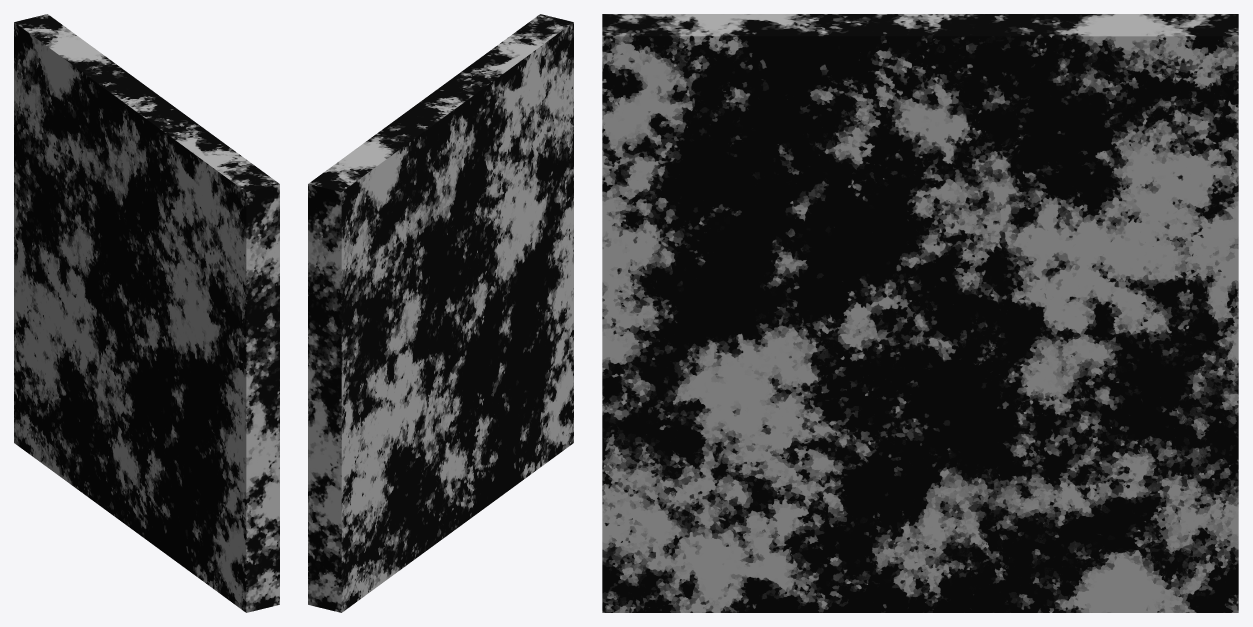
File: SM_Wall_Bricks.fbx
3 views of the same model, side by side, from view 1: azimuth 30°, elevation 25°; view 2: azimuth 150°, elevation 25°; view 3: azimuth 270°, elevation 25° (orthographic). The views are drawn at different scales.
Parts seen in each view (by area): view 1: SM_Wall_Bricks_LOD0; view 2: SM_Wall_Bricks_LOD0; view 3: SM_Wall_Bricks_LOD0.
Boxes of the visible parts, <box> form: SM_Wall_Bricks_LOD0: <box>14,14,279,612</box>; SM_Wall_Bricks_LOD0: <box>308,14,573,612</box>; SM_Wall_Bricks_LOD0: <box>602,14,1238,612</box>.
Bounding box in the file's own units: 50 × 600 × 600.
1 material, 1 textured.
